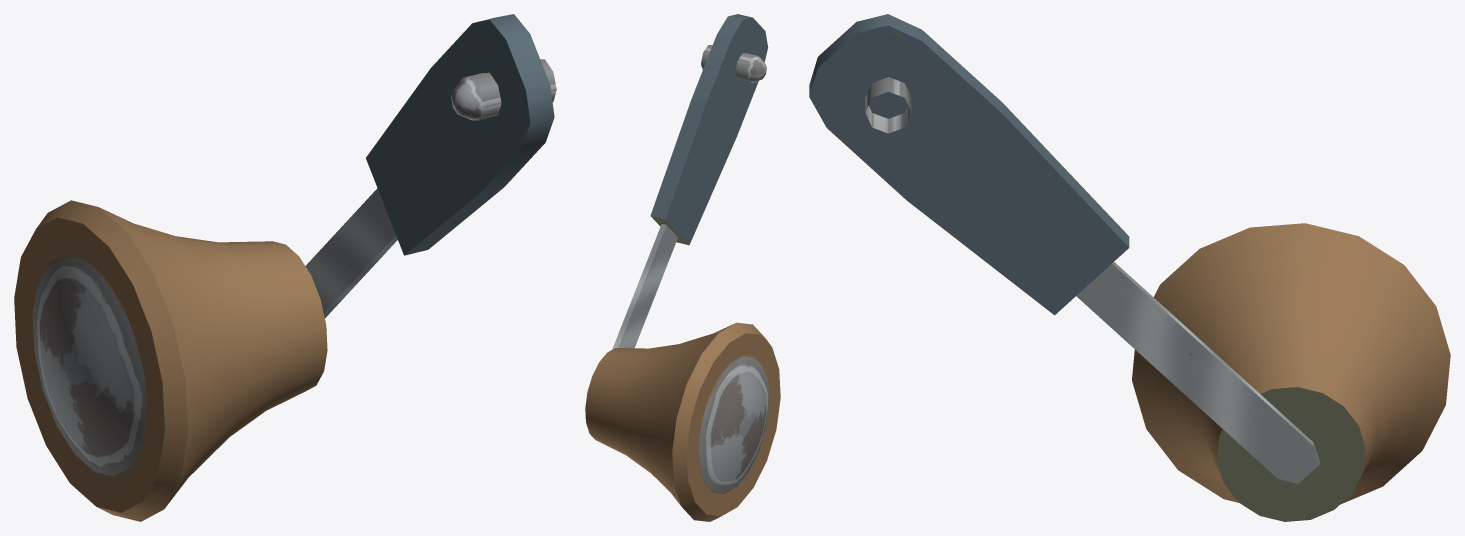
The model's file is teleprompter_crank_handle.FBX.
The picture shows the model from 3 angles, left to right: view 1: azimuth 30°, elevation 25°; view 2: azimuth 150°, elevation 25°; view 3: azimuth 270°, elevation 25°; orthographic projection. The views are drawn at different scales.
Visible parts, largest first — view 1: _crank; view 2: _crank; view 3: _crank.
Boxes of the visible parts, bbox=[...] form: _crank: bbox=[14, 14, 556, 521]; _crank: bbox=[585, 14, 780, 521]; _crank: bbox=[809, 14, 1450, 521].
Bounding box in the file's own units: 0.3295 × 0.7055 × 0.7051.
